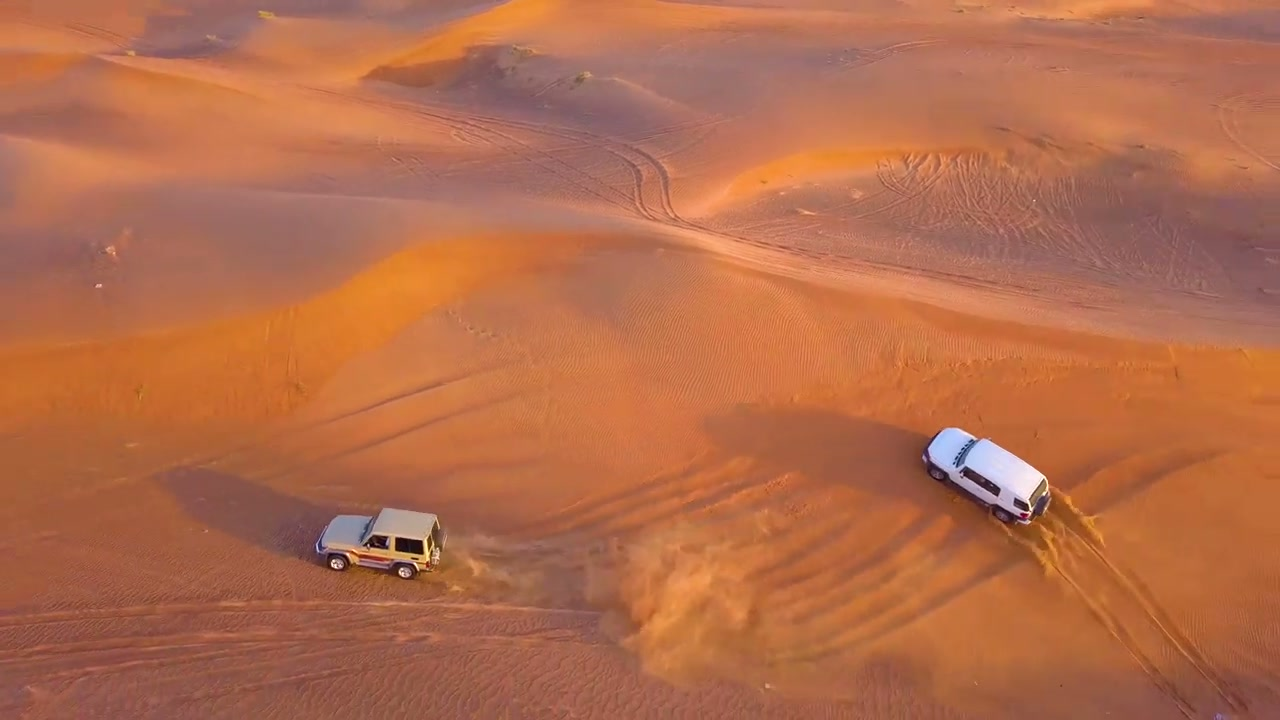vehicle_track: (1006, 511, 1247, 719), (1217, 92, 1279, 170)
